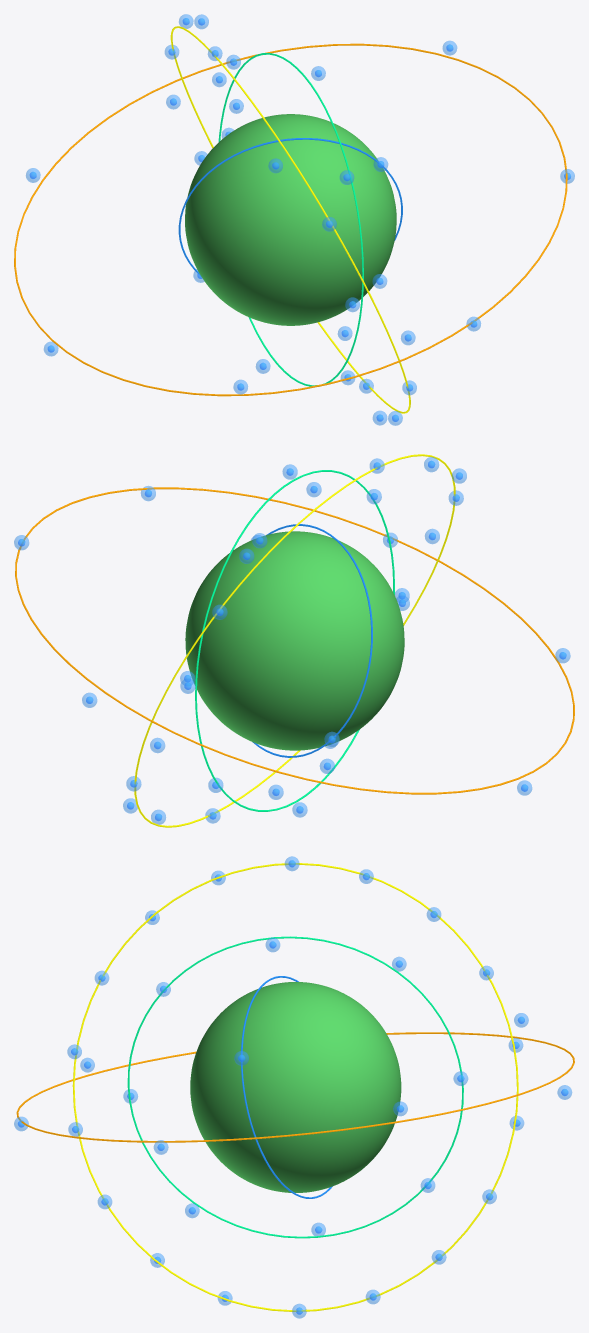
3 renders of one model, top to bottom at view 1: azimuth 30°, elevation 25°; view 2: azimuth 150°, elevation 25°; view 3: azimuth 270°, elevation 25°, orthographic. The views are drawn at different scales.
Visible parts, largest first — view 1: Br, object 61, object 24, object 7, object 2; view 2: Br, object 61, object 24, object 7, object 2; view 3: Br, object 24, object 61, object 7, object 2.
Boxes of the visible parts, x1=… form: Br: x1=185, y1=114, x2=396, y2=325; object 61: x1=14, y1=43, x2=567, y2=396; object 24: x1=170, y1=26, x2=410, y2=413; object 7: x1=218, y1=53, x2=363, y2=386; object 2: x1=178, y1=138, x2=402, y2=273; Br: x1=185, y1=531, x2=404, y2=750; object 61: x1=15, y1=487, x2=574, y2=794; object 24: x1=134, y1=454, x2=455, y2=827; object 7: x1=195, y1=470, x2=394, y2=811; object 2: x1=252, y1=524, x2=372, y2=757; Br: x1=190, y1=982, x2=401, y2=1192; object 24: x1=72, y1=863, x2=518, y2=1311; object 61: x1=16, y1=1032, x2=574, y2=1142; object 7: x1=127, y1=936, x2=463, y2=1238; object 2: x1=241, y1=976, x2=332, y2=1198.
Size of the model in its own units: 5.83 by 4.56 by 6.02.
